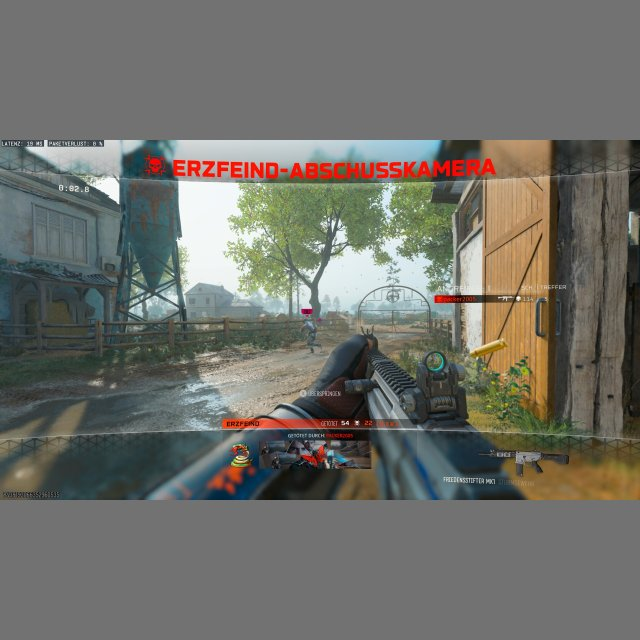player: (301, 320, 319, 354)
